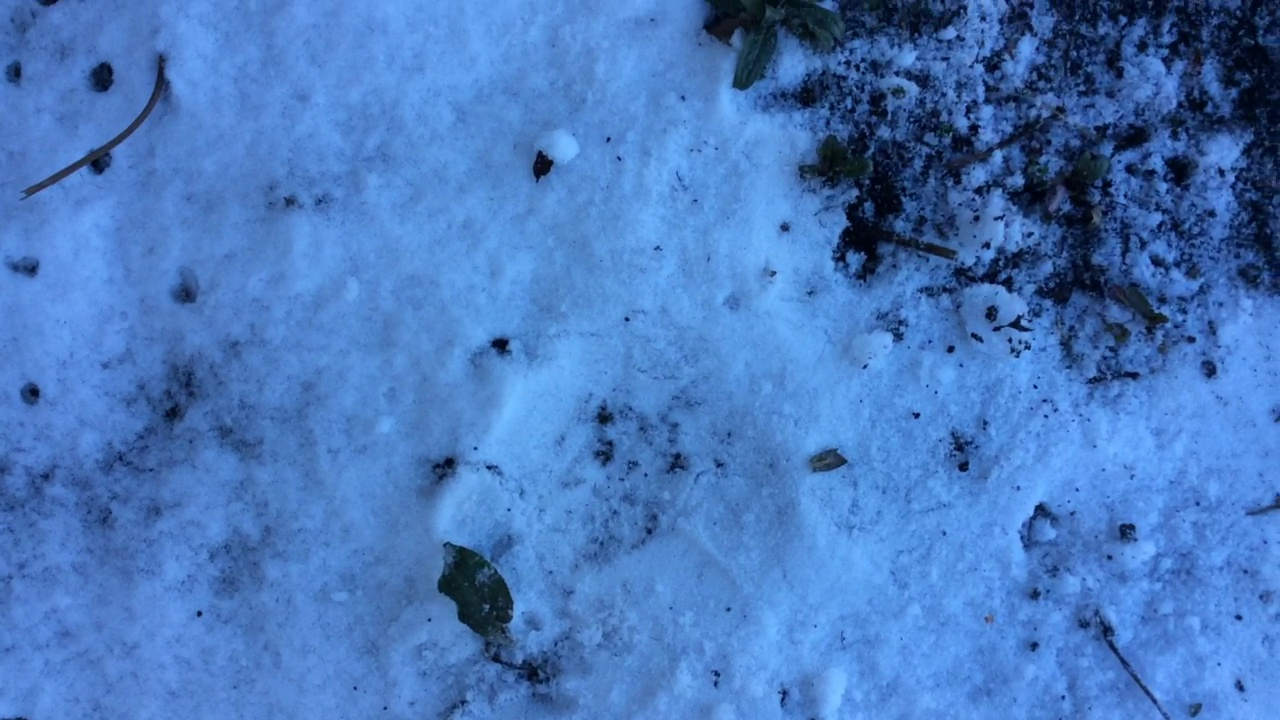root: (478, 632, 513, 671)
rumex: (430, 532, 528, 674)
